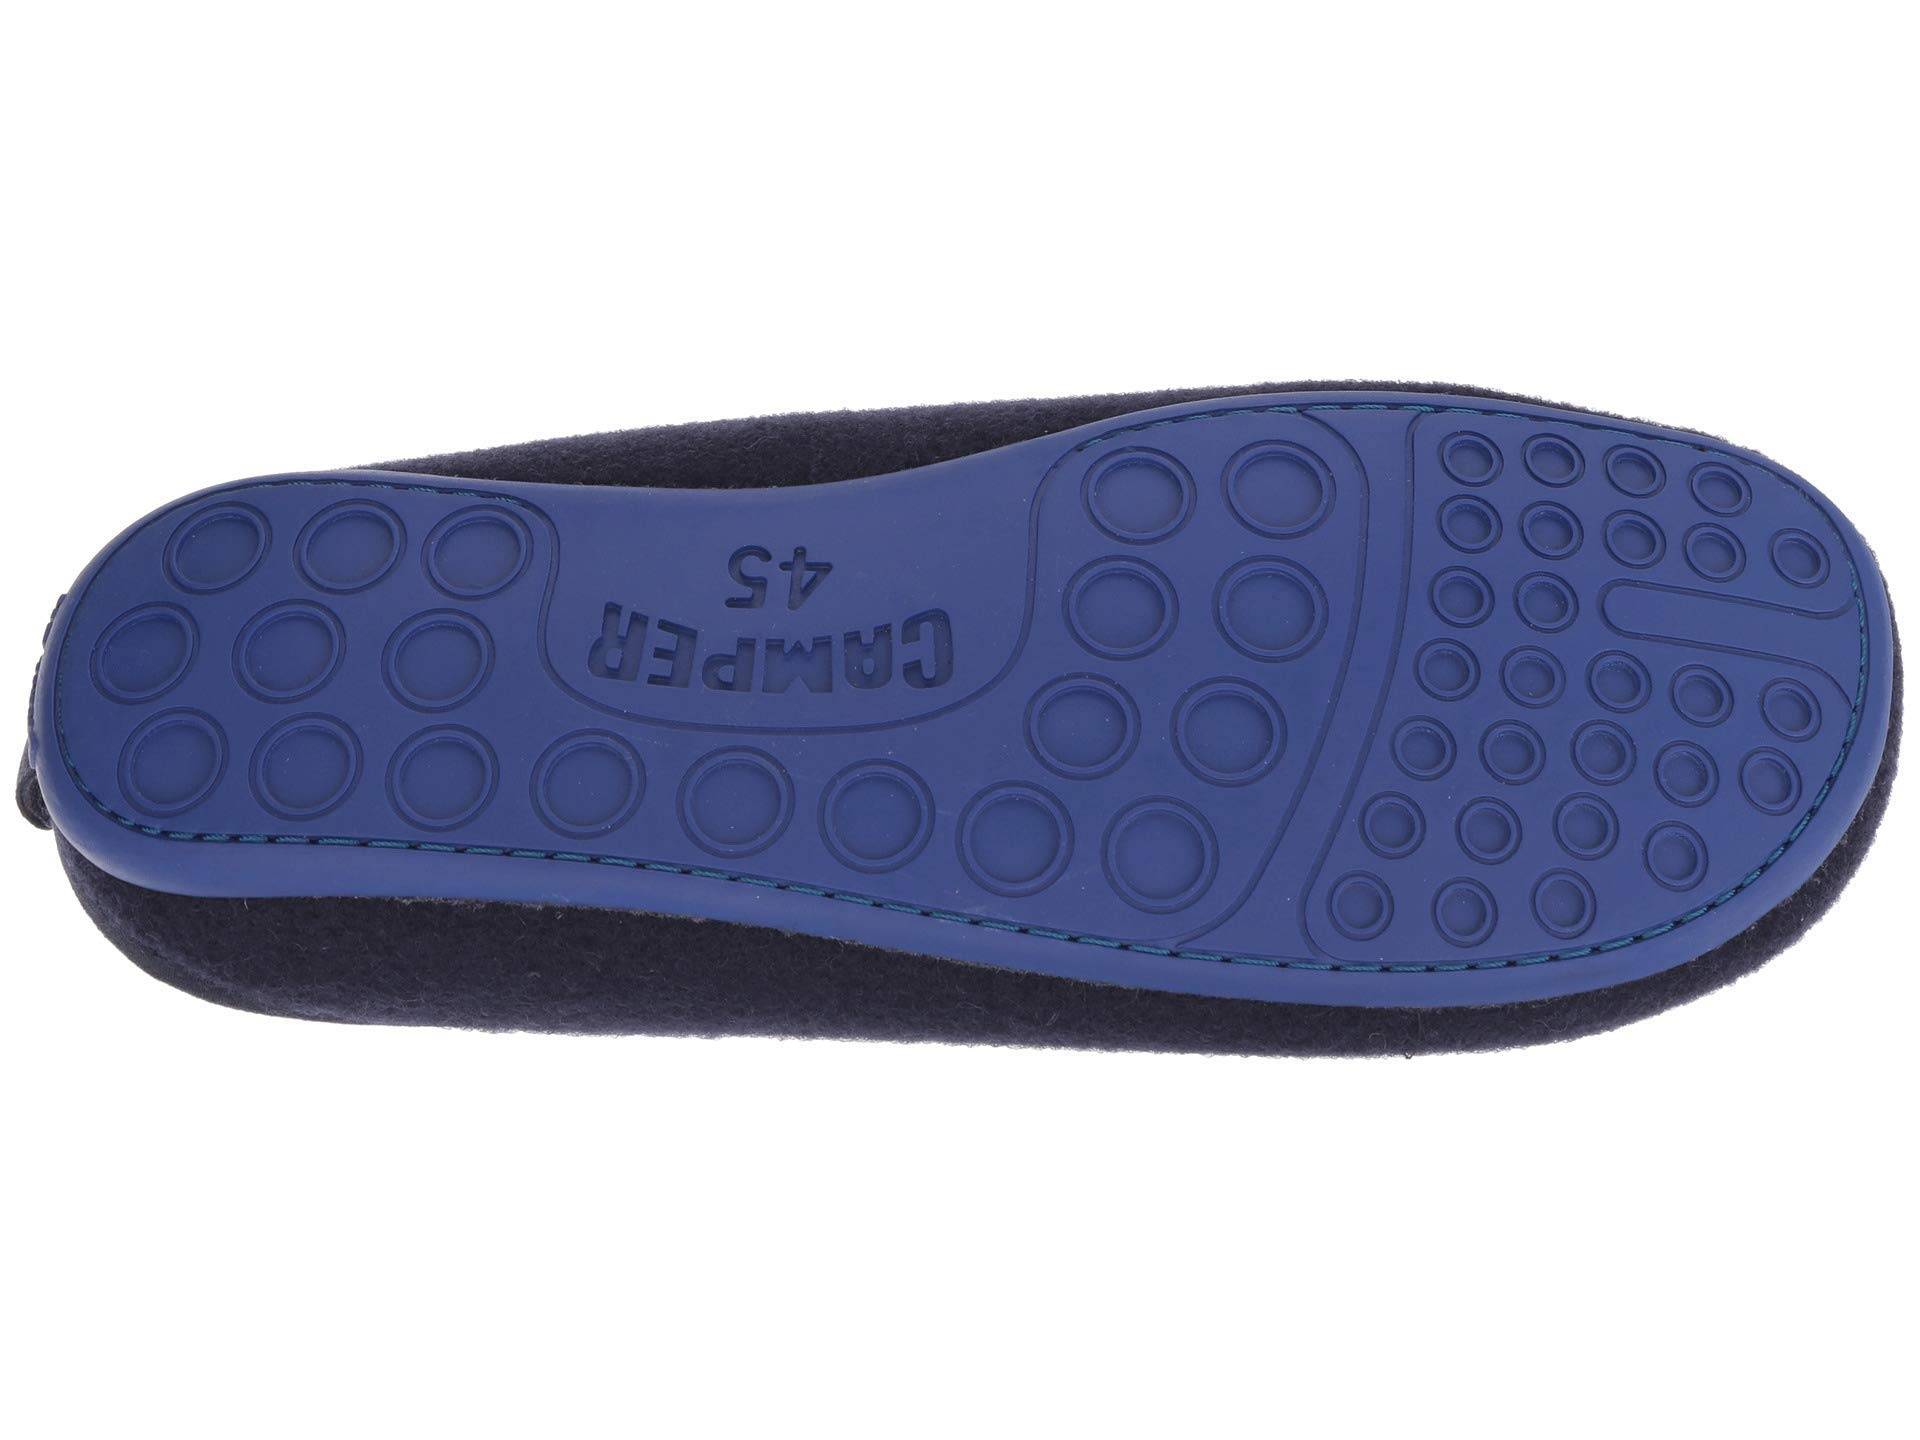circle: (1411, 699, 1651, 979), (1075, 433, 1346, 675)
line: (571, 499, 989, 712), (1411, 699, 1651, 979), (345, 827, 685, 898)
text: (571, 499, 989, 712)
